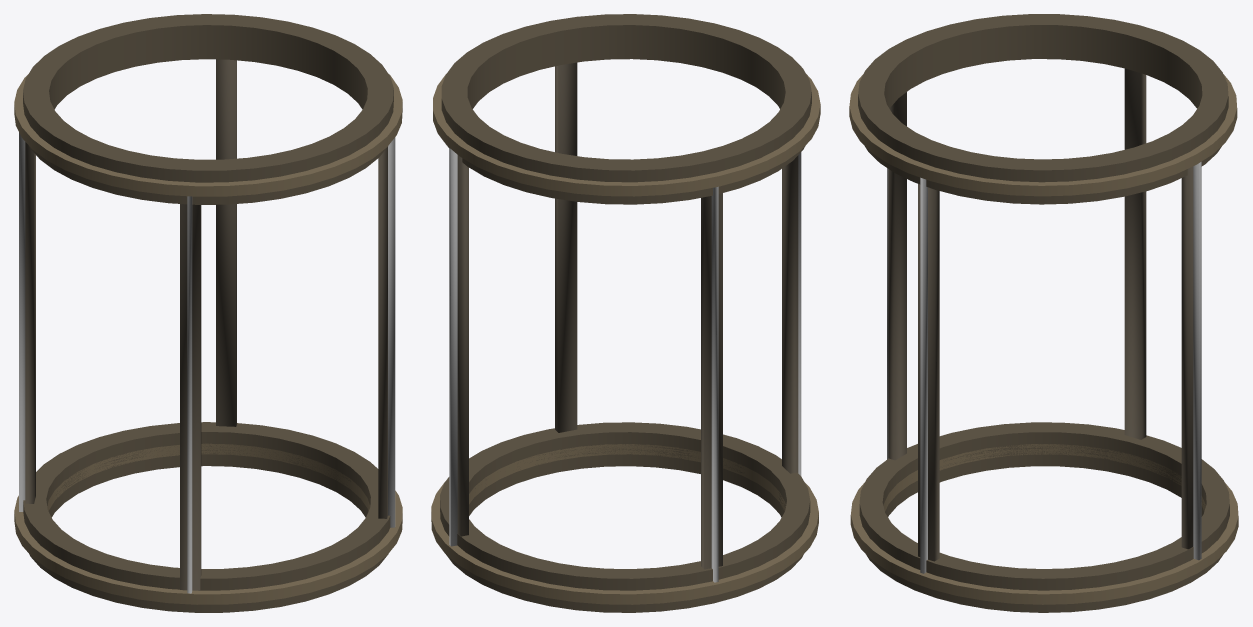
File: Portal.fbx
3 views of the same model, side by side, from view 1: azimuth 30°, elevation 25°; view 2: azimuth 150°, elevation 25°; view 3: azimuth 270°, elevation 25° (orthographic).
Parts seen in each view (by area): view 1: Portal; view 2: Portal; view 3: Portal.
Part boxes in pixels (x1=…): Portal: x1=14, y1=14, x2=402, y2=612; Portal: x1=431, y1=14, x2=820, y2=612; Portal: x1=849, y1=14, x2=1238, y2=612.
Size of the model in its own units: 52.83 by 66.61 by 52.9.
